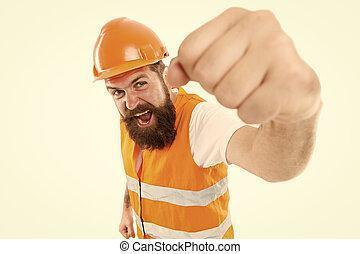helmet: (91, 17, 170, 85)
